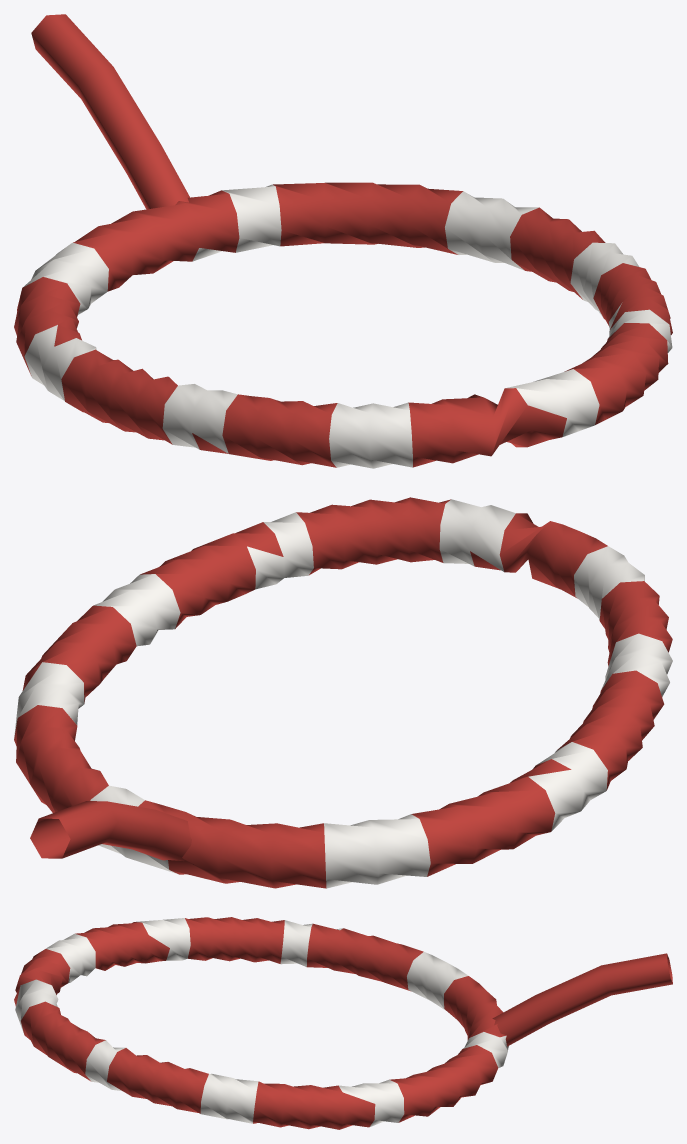
File: roupa_mongkol.glb
3 renders of one model, top to bottom at view 1: azimuth 30°, elevation 25°; view 2: azimuth 150°, elevation 25°; view 3: azimuth 270°, elevation 25°, orthographic. The views are drawn at different scales.
Visible parts, largest first — view 1: mongkol; view 2: mongkol; view 3: mongkol.
Part boxes in pixels (left/top/right/bottom): mongkol: left=14, top=14, right=672, bottom=468; mongkol: left=14, top=497, right=672, bottom=888; mongkol: left=14, top=917, right=672, bottom=1129.
Size of the model in its own units: 0.2028 by 0.0533 by 0.3107.
